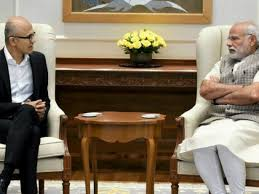Good: (1, 16, 259, 190)
